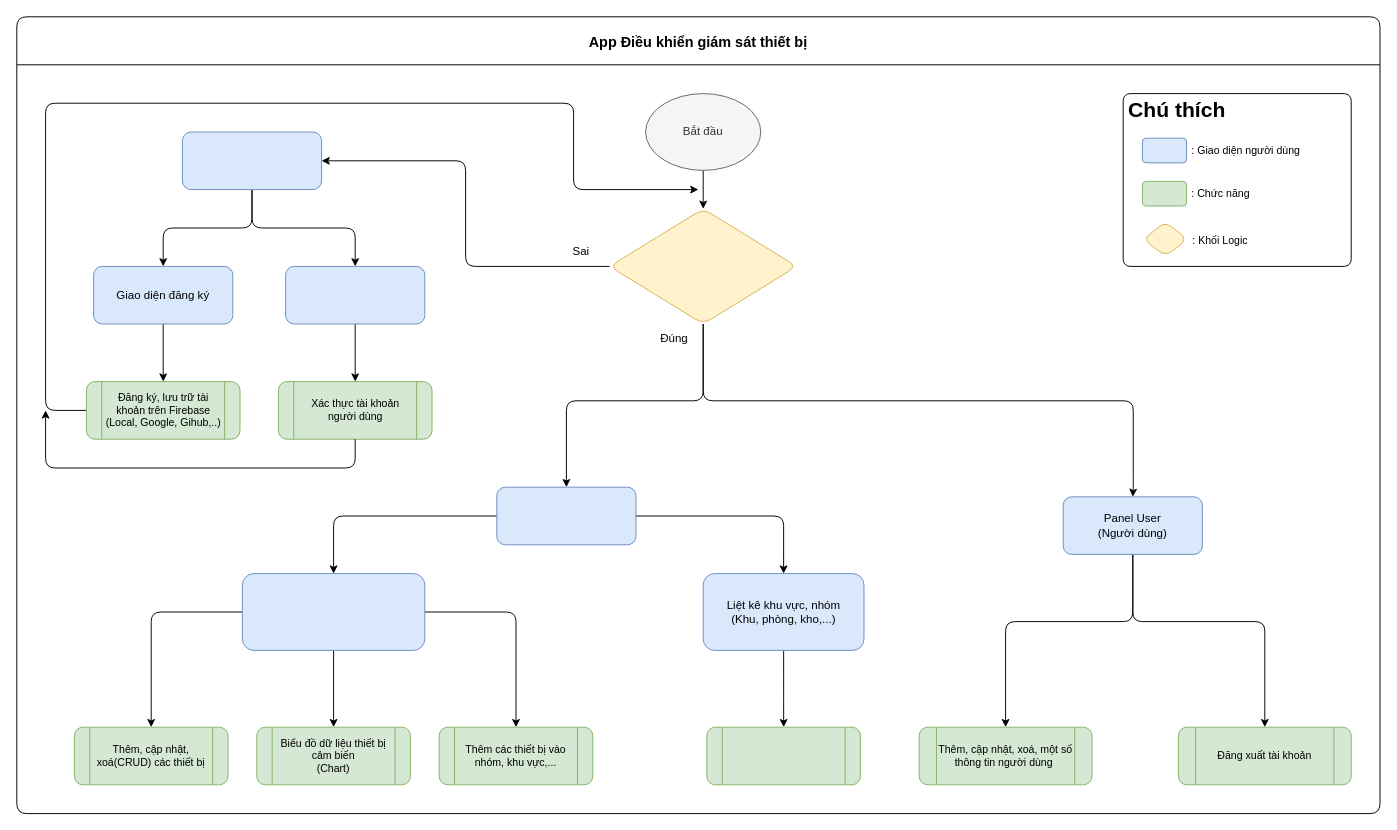
The diagram is 1397 pixels wide and 830 high, and some of its shapes have lost their labels. Each missing label, with the box of its shape:
Danh sách các Device, Sensor (Cảm biến, Đèn, Động cơ,...): (241, 573, 425, 650)
Giao diện đăng nhập: (285, 265, 425, 324)
Hiển thị Landing Page (Giao diện khởi đầu): (181, 131, 322, 190)
kiểm tra đăng nhập (Firebase Authentication): (609, 208, 797, 324)
Panel Device (Quản lí Device): (496, 486, 636, 545)
Thêm, cập nhật, xoá(CRUD) nhóm, khu vực,...: (706, 726, 860, 785)
